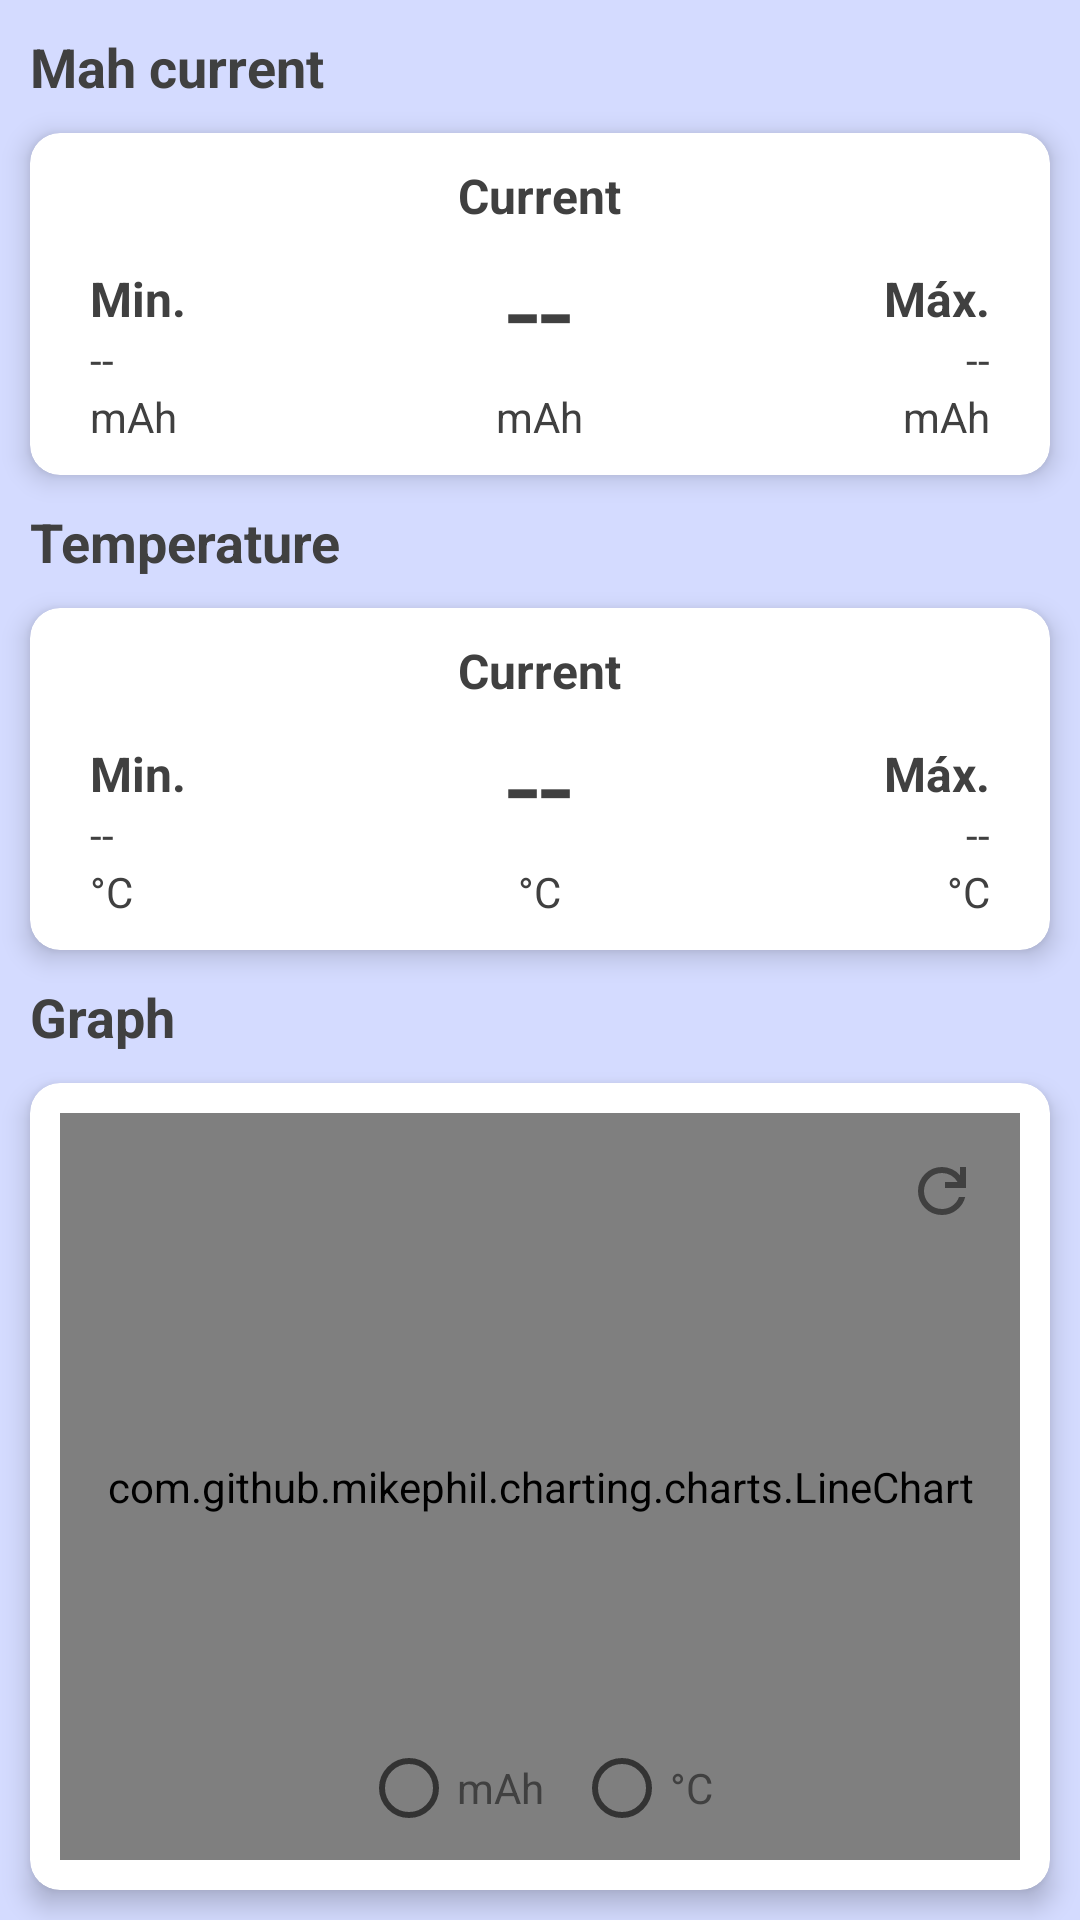

Icon click points for this 1080px x 1920px phone screenshot, format point (x, y):
Reset zoom: point (942, 1191)
